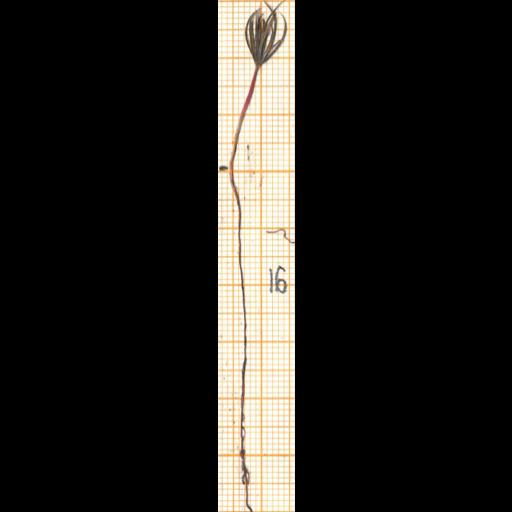flowerPinus: (243, 7, 286, 67)
rootPinus: (233, 186, 248, 508)
stemPinus: (227, 68, 256, 177)
